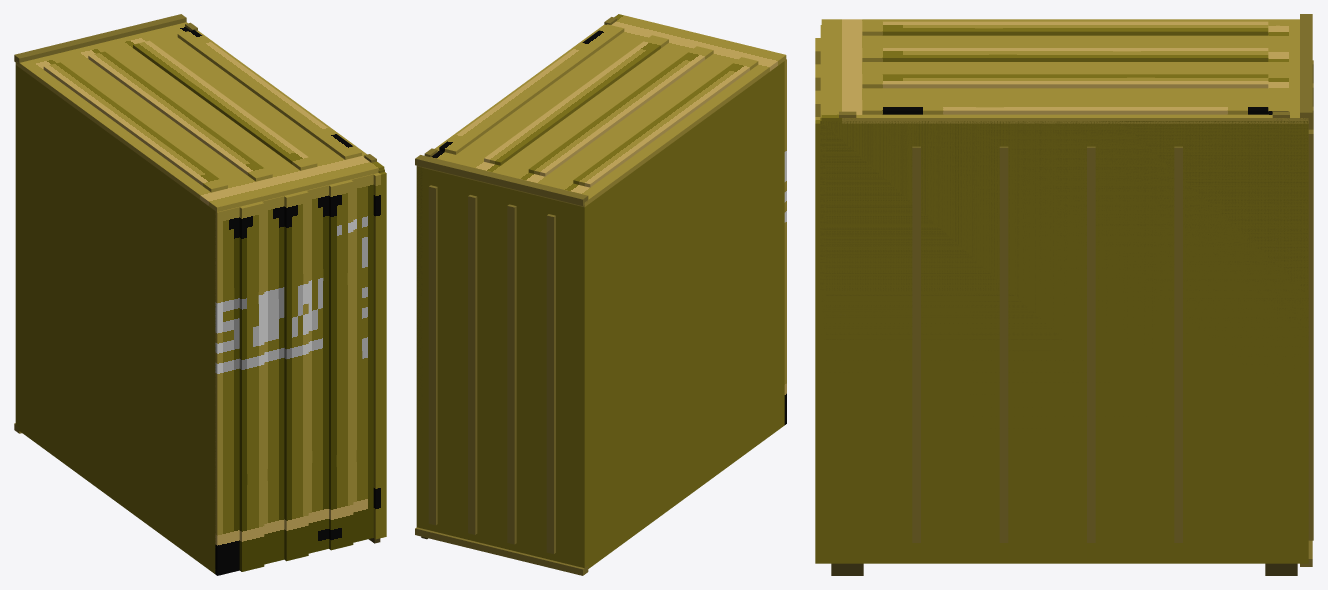
The model's file is CMU3DFreightAU14ContainerSeegsonRight.glb.
The picture shows the model from 3 angles, left to right: view 1: azimuth 30°, elevation 25°; view 2: azimuth 150°, elevation 25°; view 3: azimuth 270°, elevation 25°; orthographic projection. The views are drawn at different scales.
Parts seen in each view (by area): view 1: closed cargo shell, source-painted corrugated roof, painted corrugation 2, painted corrugation 4, painted corrugation 6, painted corrugation 1, painted corrugation 7, painted corrugation 3, painted corrugation 5, painted corrugation 8, source-painted roof ridge 4, source-painted roof ridge 2 (+3 smaller); view 2: closed cargo shell, source-painted corrugated roof, rear wall corrugation (×4), rear horizontal frame (×2), source-painted roof ridge 1, source-painted roof ridge 2, source-painted roof ridge 4, source-painted roof ridge 3, painted corrugation 1, outer end wall; view 3: closed cargo shell, source-painted corrugated roof, outer end wall, end wall rib (×4), source-painted roof ridge 1, source-painted roof ridge 3, source-painted roof ridge 4, source-painted roof ridge 2, painted corrugation 8, rear wall corrugation, rear horizontal frame.
Part boxes in pixels (bbox=[...]): closed cargo shell: bbox=[15, 65, 215, 573]; source-painted corrugated roof: bbox=[15, 22, 384, 211]; painted corrugation 2: bbox=[239, 201, 264, 571]; painted corrugation 4: bbox=[284, 190, 308, 561]; painted corrugation 6: bbox=[329, 179, 353, 550]; painted corrugation 1: bbox=[215, 207, 239, 575]; painted corrugation 7: bbox=[351, 174, 373, 542]; painted corrugation 3: bbox=[262, 196, 284, 564]; painted corrugation 5: bbox=[306, 185, 328, 553]; painted corrugation 8: bbox=[373, 172, 386, 539]; source-painted roof ridge 4: bbox=[177, 30, 361, 159]; source-painted roof ridge 2: bbox=[88, 51, 272, 181]; closed cargo shell: bbox=[416, 61, 784, 568]; source-painted corrugated roof: bbox=[417, 14, 786, 207]; rear wall corrugation (×4): bbox=[428, 185, 555, 553]; rear horizontal frame (×2): bbox=[415, 155, 588, 575]; source-painted roof ridge 1: bbox=[573, 57, 758, 187]; source-painted roof ridge 2: bbox=[528, 46, 713, 176]; source-painted roof ridge 4: bbox=[439, 24, 624, 154]; source-painted roof ridge 3: bbox=[484, 35, 668, 165]; painted corrugation 1: bbox=[784, 59, 786, 424]; outer end wall: bbox=[416, 166, 422, 431]; closed cargo shell: bbox=[825, 123, 1308, 563]; source-painted corrugated roof: bbox=[821, 19, 1308, 123]; outer end wall: bbox=[820, 117, 1308, 372]; end wall rib (×4): bbox=[912, 146, 1182, 542]; source-painted roof ridge 1: bbox=[862, 21, 1268, 35]; source-painted roof ridge 3: bbox=[862, 74, 1268, 88]; source-painted roof ridge 4: bbox=[862, 100, 1268, 114]; source-painted roof ridge 2: bbox=[862, 48, 1268, 61]; painted corrugation 8: bbox=[815, 117, 825, 563]; rear wall corrugation: bbox=[1308, 129, 1313, 540]; rear horizontal frame: bbox=[1300, 14, 1312, 120].
Bounding box in the file's own units: 0.9455 × 2.05 × 2.
Materials: 16 (12 with a texture image).
